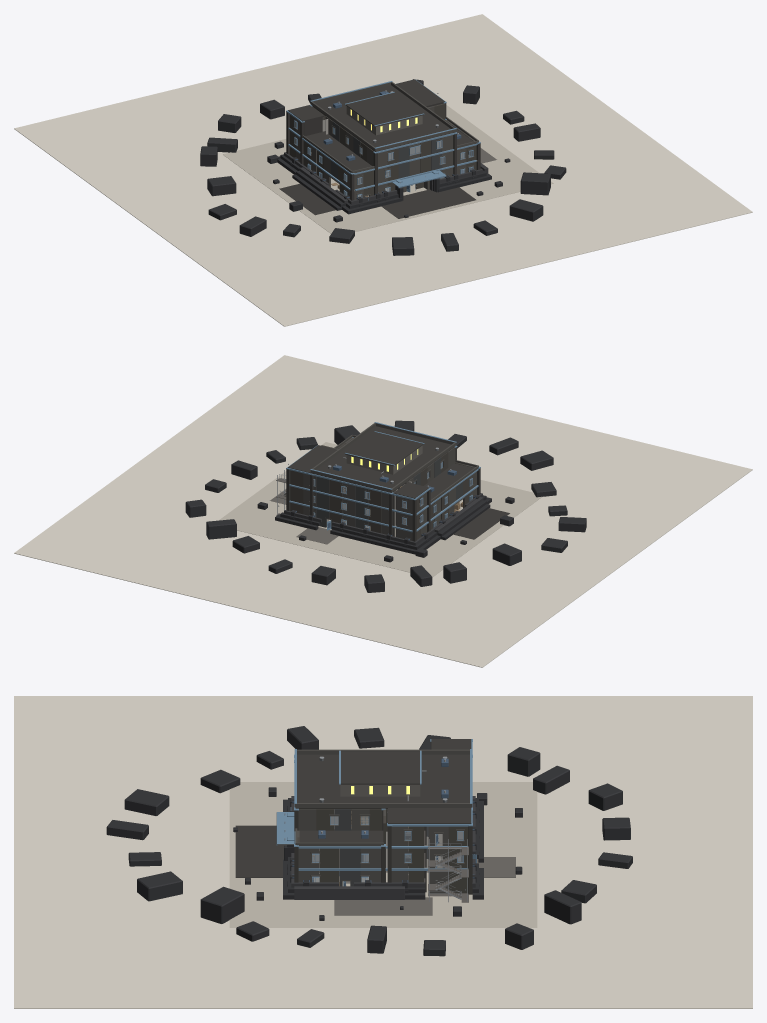
Rendered from obsidian_archive_v21.glb.
3 views of the same model, one above another, from view 1: azimuth 30°, elevation 25°; view 2: azimuth 150°, elevation 25°; view 3: azimuth 270°, elevation 25° (orthographic). The views are drawn at different scales.
Parts seen in each view (by area): view 1: Site_Salt, Site_Basalt, Roof_Main, Shell_South, Plinth_Basalt, Roof_Wings_Mid, Shell_West, Shell_Pilasters, Shell_Returns, Trim_South, Shell_West_Trim, Shell_South_Windows; view 2: Site_Salt, Site_Basalt, Roof_Main, Shell_North, Plinth_Basalt, Shell_North_Trim, Shell_West, Shell_Pilasters, Roof_Wings_Mid, Shell_Returns, Shell_West_Trim; view 3: Site_Salt, Site_Basalt, Roof_Main, Shell_East, Plinth_Basalt, Shell_Returns, Shell_East_Trim, StairExt_Steps, Roof_Wings_Mid, Shell_Pilasters, Shell_Canopy.
Boxes of the visible parts, x1,y1,x2,y2 form: Site_Salt: (14,14,752,326); Site_Basalt: (200,79,566,255); Roof_Main: (288,79,461,161); Shell_South: (354,135,476,199); Plinth_Basalt: (277,152,491,214); Roof_Wings_Mid: (302,117,478,173); Shell_West: (290,114,350,198); Shell_Pilasters: (286,79,480,200); Shell_Returns: (325,103,445,165); Trim_South: (354,132,477,190); Shell_West_Trim: (288,111,350,195); Shell_South_Windows: (357,140,474,197); Site_Salt: (14,355,752,667); Site_Basalt: (185,420,586,592); Roof_Main: (288,422,456,498); Shell_North: (290,470,412,540); Plinth_Basalt: (275,493,491,554); Shell_North_Trim: (288,468,413,532); Shell_West: (416,471,476,539); Shell_Pilasters: (286,437,480,541); Roof_Wings_Mid: (334,434,478,502); Shell_Returns: (321,445,455,485); Shell_West_Trim: (415,469,478,531); Site_Salt: (14,696,752,1008); Site_Basalt: (106,726,632,956); Roof_Main: (294,739,472,838); Shell_East: (298,826,468,893); Plinth_Basalt: (283,796,483,899); Shell_Returns: (298,809,387,881); Shell_East_Trim: (298,824,471,882); StairExt_Steps: (428,839,468,902); Roof_Wings_Mid: (295,828,383,846); Shell_Pilasters: (294,739,472,894); Shell_Canopy: (276,812,294,845).
Size of the model in its own units: 120 by 18.85 by 120.
